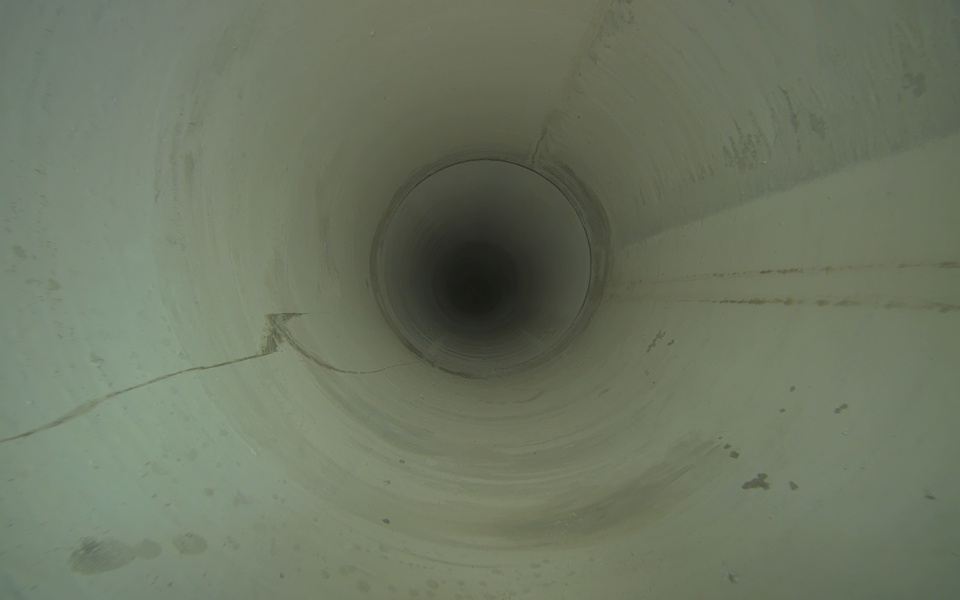circle1: (375, 155, 595, 378)
circle2: (461, 276, 493, 310)
